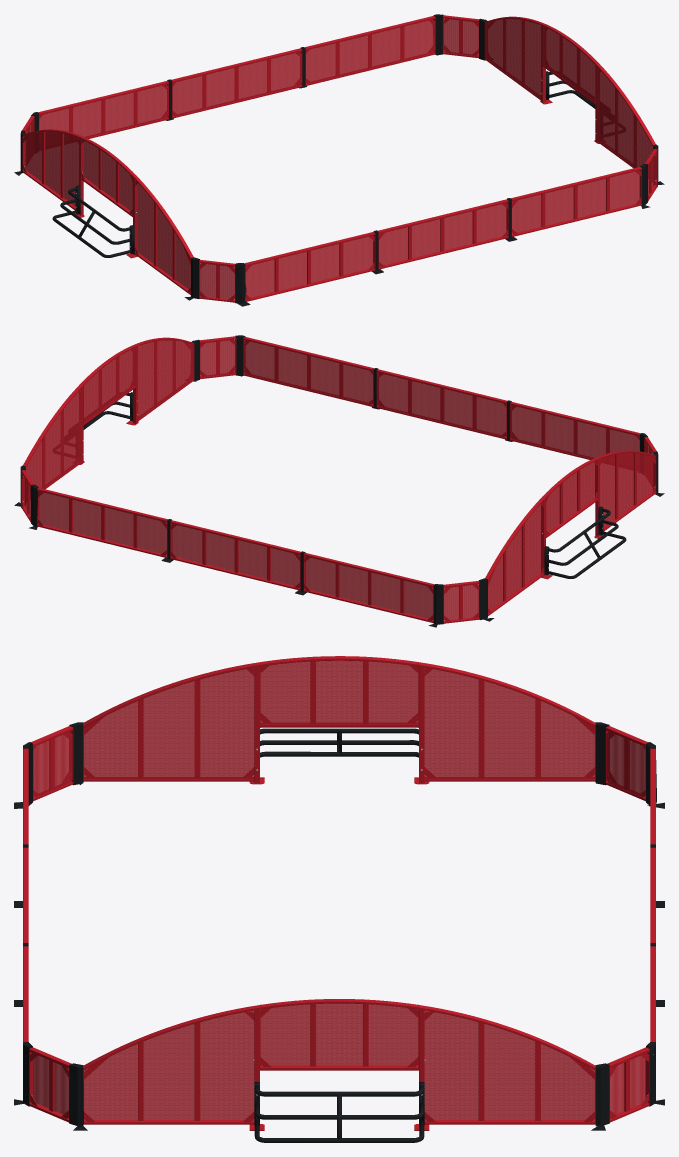
Rendered from panna-court-v6.glb.
The picture shows the model from 3 angles, top to bottom: view 1: azimuth 30°, elevation 25°; view 2: azimuth 150°, elevation 25°; view 3: azimuth 270°, elevation 25°; orthographic projection. The views are drawn at different scales.
Parts seen in each view (by area): view 1: WEB_K1_N_1_sheet, WEB_K1_N_2_sheet, WEB_K1_N_0_sheet, WEB_K1_S_0_sheet, WEB_K1_S_1_sheet, WEB_K1_S_2_sheet, WEB_K3L_upper_0_sheet, WEB_K3P_lower_0_sheet, WEB_K3L_upper_180_sheet, WEB_K3P_lower_180_sheet, WEB_K4_header_0_sheet, WEB_K1_S_1_frame (+18 smaller); view 2: WEB_K1_S_2_sheet, WEB_K1_S_1_sheet, WEB_K1_S_0_sheet, WEB_K1_N_0_sheet, WEB_K1_N_1_sheet, WEB_K1_N_2_sheet, WEB_K3P_lower_0_sheet, WEB_K3L_upper_0_sheet, WEB_K3P_lower_180_sheet, WEB_K3L_upper_180_sheet, WEB_K4_header_0_sheet, WEB_K1_N_1_frame (+18 smaller); view 3: WEB_K3L_upper_180_sheet, WEB_K3P_lower_180_sheet, WEB_K3L_upper_0_sheet, WEB_K3P_lower_0_sheet, WEB_K4_header_180_sheet, WEB_K4_header_0_sheet, WEB_K3L_upper_0_frame, WEB_K3P_lower_0_frame, WEB_BR1_goal_0_frame, WEB_K3L_upper_180_frame, WEB_K3P_lower_180_frame, WEB_K4_header_0_frame (+11 smaller).
Boxes of the visible parts, box(x1,y1,x2,y2) form: WEB_K1_N_1_sheet: box(172, 52, 301, 116); WEB_K1_N_2_sheet: box(306, 19, 435, 83); WEB_K1_N_0_sheet: box(39, 84, 168, 137); WEB_K1_S_0_sheet: box(245, 236, 373, 297); WEB_K1_S_1_sheet: box(379, 204, 506, 264); WEB_K1_S_2_sheet: box(512, 171, 639, 232); WEB_K3L_upper_0_sheet: box(485, 19, 540, 98); WEB_K3P_lower_0_sheet: box(597, 67, 652, 167); WEB_K3L_upper_180_sheet: box(138, 183, 190, 289); WEB_K3P_lower_180_sheet: box(25, 132, 78, 206); WEB_K4_header_0_sheet: box(543, 26, 594, 102); WEB_K1_S_1_frame: box(377, 199, 508, 269); WEB_K1_S_2_sheet: box(243, 340, 372, 404); WEB_K1_S_1_sheet: box(377, 373, 506, 437); WEB_K1_S_0_sheet: box(510, 405, 639, 458); WEB_K1_N_0_sheet: box(305, 557, 433, 618); WEB_K1_N_1_sheet: box(172, 525, 299, 585); WEB_K1_N_2_sheet: box(39, 492, 166, 553); WEB_K3P_lower_0_sheet: box(138, 340, 193, 419); WEB_K3L_upper_0_sheet: box(26, 388, 81, 488); WEB_K3P_lower_180_sheet: box(488, 504, 540, 610); WEB_K3L_upper_180_sheet: box(600, 453, 653, 527); WEB_K4_header_0_sheet: box(84, 347, 135, 423); WEB_K1_N_1_frame: box(170, 520, 301, 590); WEB_K3L_upper_180_sheet: box(84, 668, 254, 779); WEB_K3P_lower_180_sheet: box(424, 668, 594, 779); WEB_K3L_upper_0_sheet: box(424, 1010, 594, 1119); WEB_K3P_lower_0_sheet: box(84, 1010, 254, 1119); WEB_K4_header_180_sheet: box(260, 660, 418, 724); WEB_K4_header_0_sheet: box(260, 1003, 418, 1065); WEB_K3L_upper_0_frame: box(414, 1005, 595, 1130); WEB_K3P_lower_0_frame: box(83, 1005, 264, 1130); WEB_BR1_goal_0_frame: box(254, 1082, 424, 1142); WEB_K3L_upper_180_frame: box(83, 662, 264, 784); WEB_K3P_lower_180_frame: box(414, 662, 595, 784); WEB_K4_header_0_frame: box(260, 999, 418, 1070).
Bounding box in the file's own units: 8.09 × 1.22 × 5.73.
Materials: 4 (1 with a texture image).
